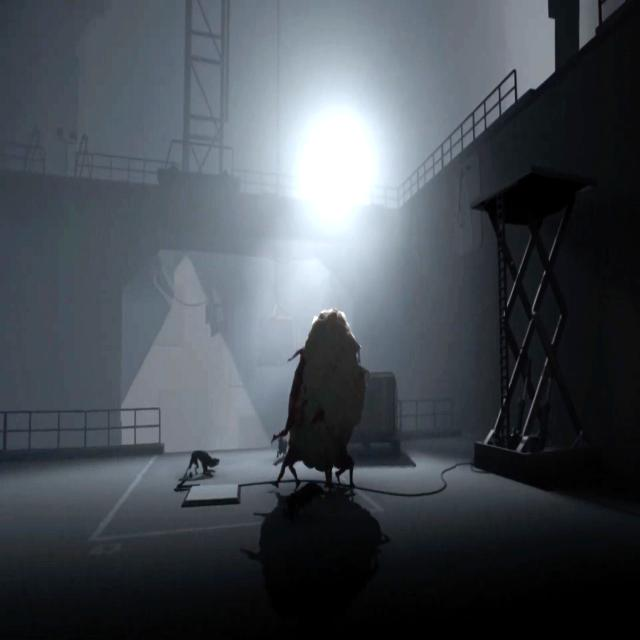blob: (273, 313, 371, 491)
dog: (185, 449, 220, 477), (276, 438, 287, 458)
mechanism: (473, 163, 576, 484)
structure: (396, 67, 516, 206), (182, 0, 230, 172), (0, 400, 163, 450), (236, 160, 398, 207), (73, 152, 159, 186), (0, 145, 47, 168)
